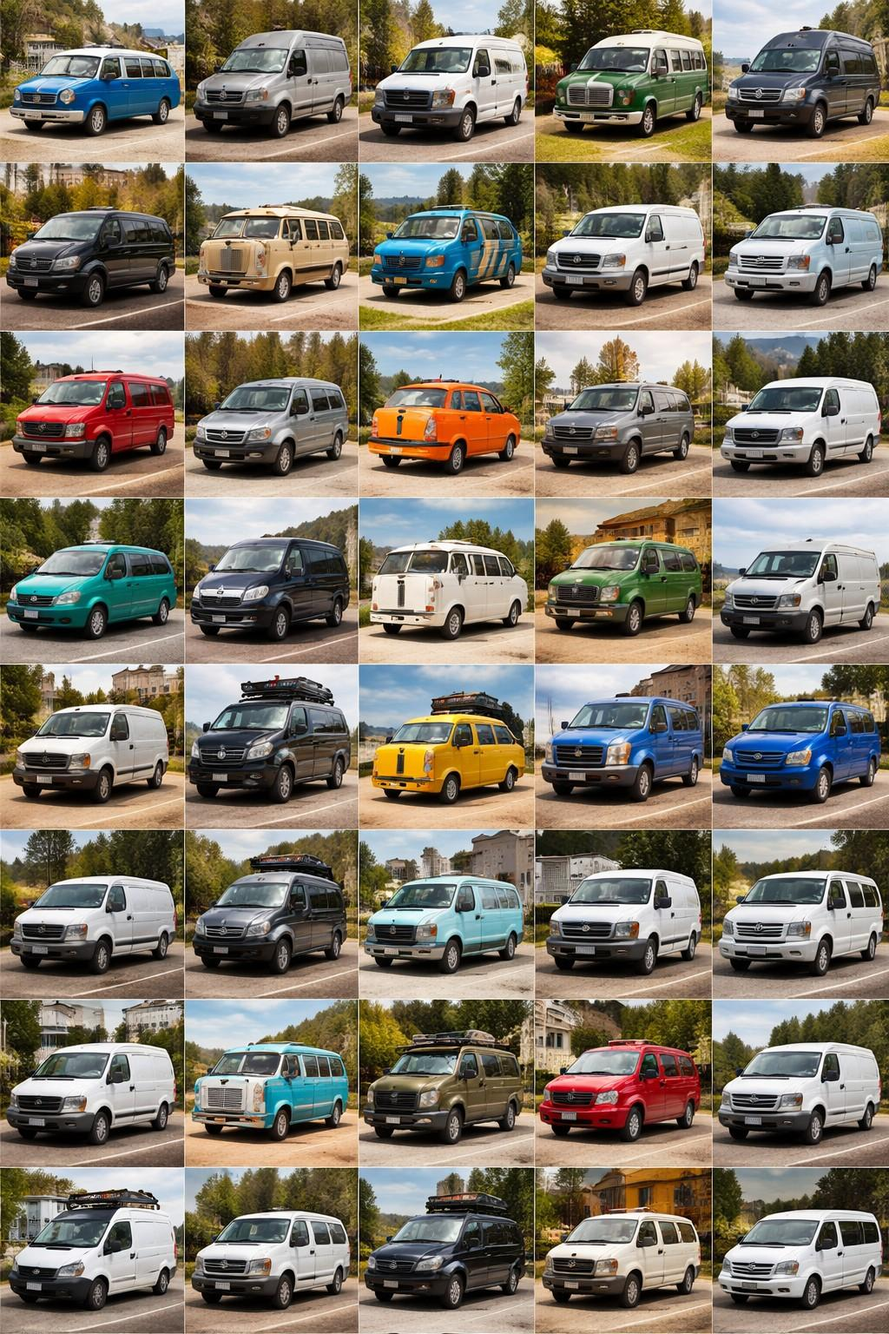van: (360, 1011, 535, 1164), (544, 834, 714, 991), (537, 668, 705, 825), (4, 838, 181, 986), (373, 1171, 531, 1334), (719, 1174, 879, 1334), (716, 837, 880, 993), (6, 6, 183, 150), (190, 1002, 349, 1162), (715, 1013, 883, 1163), (719, 178, 887, 327), (368, 7, 532, 159), (11, 1181, 177, 1330), (540, 179, 707, 326), (546, 1175, 702, 1332), (366, 674, 528, 825), (718, 503, 884, 650), (723, 340, 884, 490), (724, 674, 889, 820), (193, 13, 356, 159), (719, 8, 880, 155), (9, 676, 175, 818), (11, 1013, 178, 1154), (369, 179, 530, 325), (541, 515, 704, 659), (545, 10, 703, 157), (549, 1006, 699, 1159), (197, 508, 348, 657), (194, 172, 348, 317), (8, 174, 171, 309), (11, 343, 171, 480), (369, 844, 523, 985), (14, 508, 170, 647), (188, 350, 352, 482), (200, 674, 345, 819), (194, 856, 356, 985), (365, 352, 528, 480), (204, 1189, 339, 1334), (379, 515, 530, 637), (554, 359, 701, 482)
